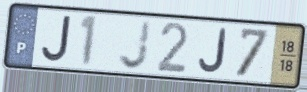1: (77, 13, 99, 69)
2: (153, 20, 190, 74)
7: (234, 26, 271, 80)
J: (117, 18, 154, 72), (39, 14, 73, 65), (197, 26, 229, 75)
